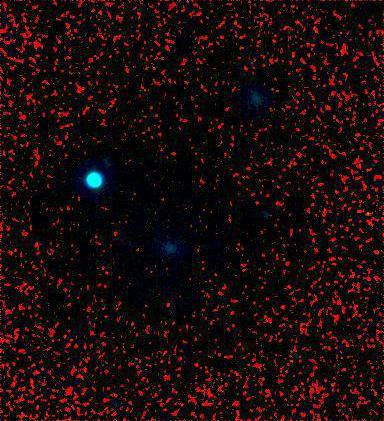star: (252, 147, 282, 177)
